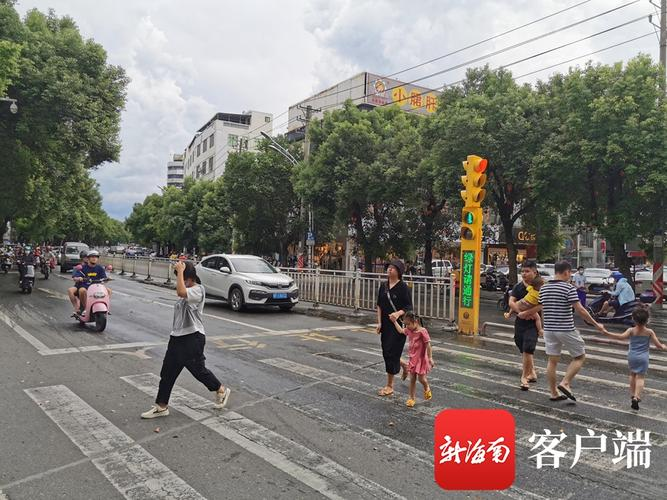car: (194, 253, 300, 312), (56, 241, 89, 272), (578, 267, 614, 290), (430, 260, 455, 277)
motorcycle: (72, 277, 113, 334), (17, 263, 36, 294), (3, 254, 13, 274)
person: (141, 257, 231, 419), (537, 262, 610, 403), (601, 305, 667, 411), (374, 262, 414, 396), (504, 265, 545, 391), (396, 312, 435, 406), (67, 250, 112, 319), (607, 272, 636, 318), (18, 249, 39, 284)
traffic light: (461, 155, 490, 246)
